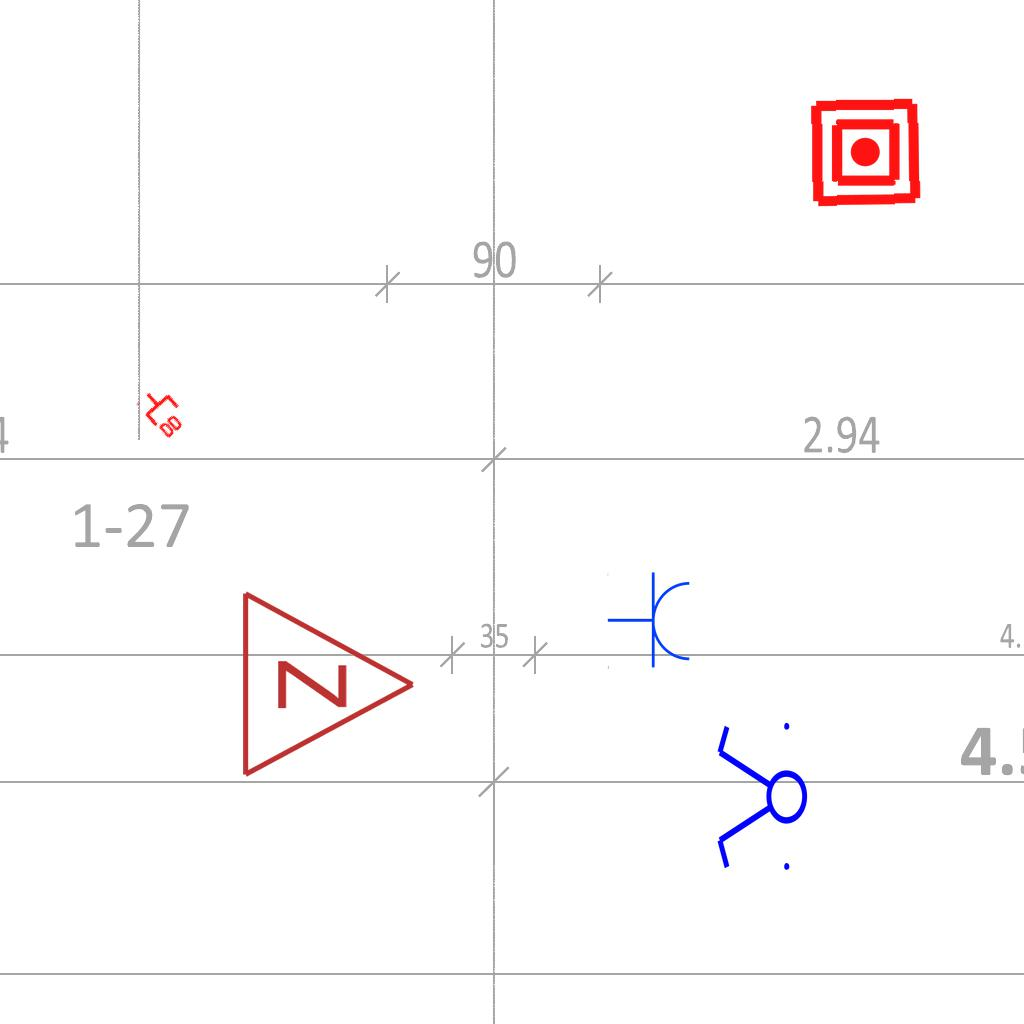Datenanschluss_zweifach: (134, 381, 194, 442)
NAM-Nichtautomatischer_Melder: (808, 95, 923, 210)
Schukosteckdose_einfach: (607, 571, 694, 671)
Serienschalter: (713, 714, 809, 882)
Zimmersignalleuchte: (228, 584, 428, 780)
